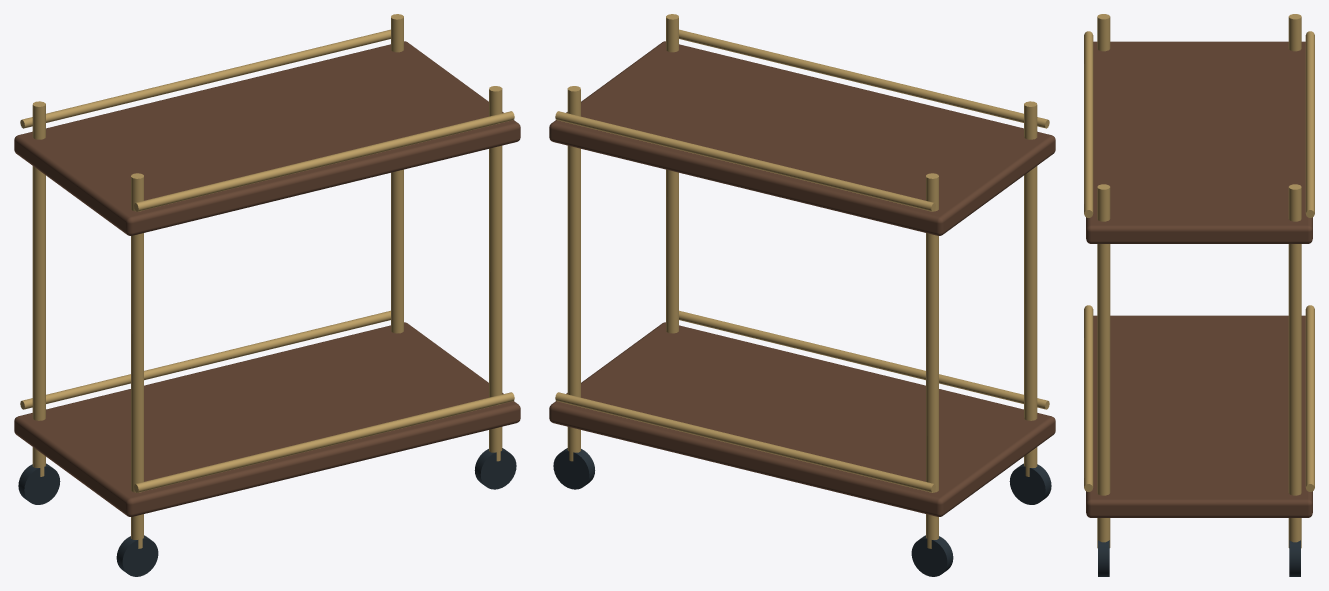
File: officeBarCart.glb
3 views of the same model, side by side, from view 1: azimuth 30°, elevation 25°; view 2: azimuth 150°, elevation 25°; view 3: azimuth 270°, elevation 25° (orthographic). The views are drawn at different scales.
Bounding box in the file's own units: 0.88 × 0.85 × 0.458.
